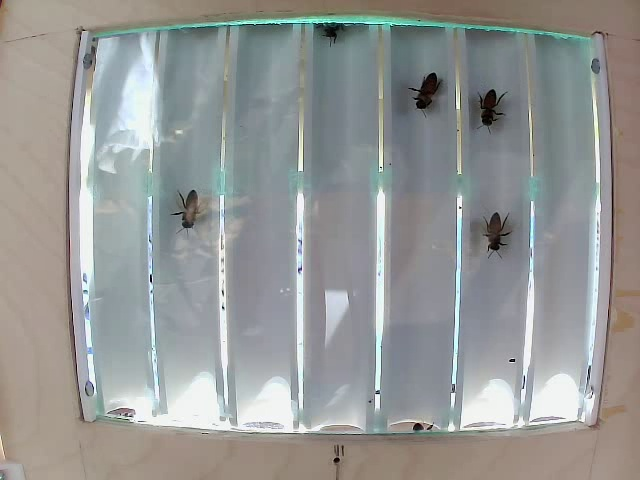bee: (483, 193, 515, 255), (472, 90, 512, 131), (415, 80, 452, 123), (165, 197, 209, 231)
